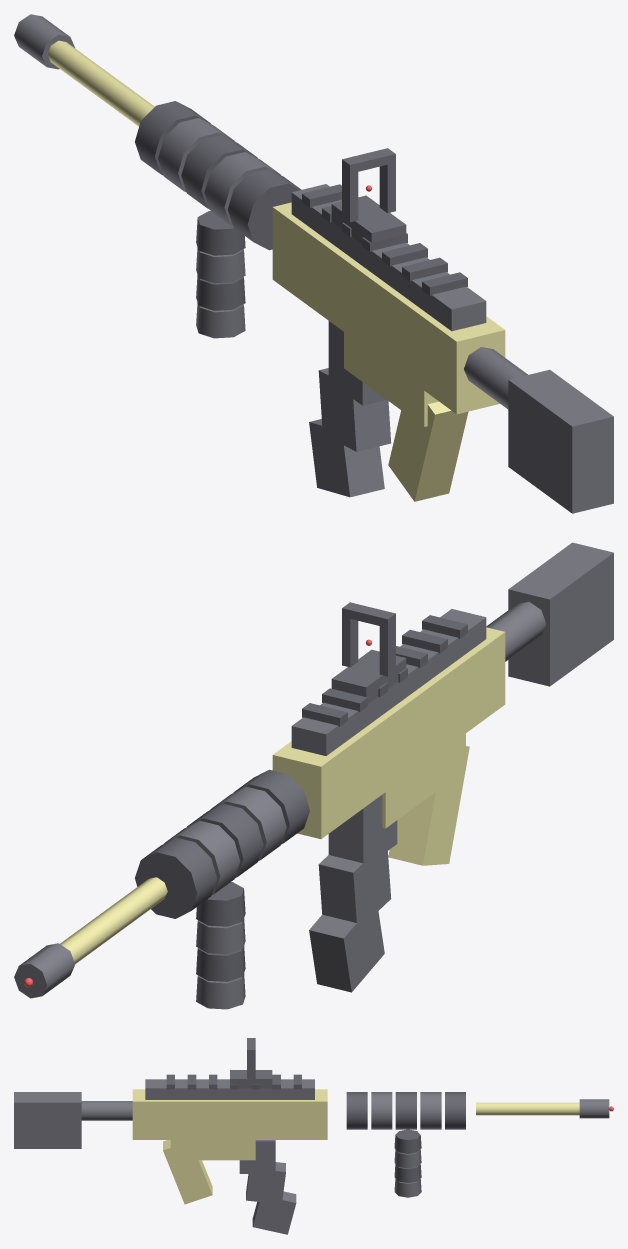
Rendered from weapon_reference.glb.
3 views of the same model, one above another, from view 1: azimuth 30°, elevation 25°; view 2: azimuth 150°, elevation 25°; view 3: azimuth 270°, elevation 25° (orthographic). The views are drawn at different scales.
Parts seen in each view (by area): view 1: receiver, stock, rail, pistol_grip, mag_seg_2, mag_seg_1, handguard_0, lower, barrel, sight_base, handguard_1, handguard_4 (+15 smaller); view 2: receiver, stock, rail, mag_seg_2, mag_seg_1, handguard_4, pistol_grip, lower, barrel, mag_seg_0, muzzle_brake, handguard_1 (+16 smaller); view 3: receiver, stock, rail, lower, pistol_grip, barrel, mag_seg_1, mag_seg_2, buffer_tube, handguard_0, handguard_1, handguard_2 (+9 smaller).
Boxes of the visible parts, x1,y1,x2,y2 form: receiver: (272, 202, 505, 414); stock: (508, 369, 613, 513); rail: (291, 184, 486, 331); pistol_grip: (388, 401, 468, 501); mag_seg_2: (309, 419, 384, 497); mag_seg_1: (318, 368, 391, 451); handguard_0: (227, 169, 301, 250); lower: (344, 332, 438, 426); barrel: (47, 40, 154, 126); sight_base: (331, 195, 406, 248); handguard_1: (204, 152, 280, 226); handguard_4: (135, 101, 210, 175); receiver: (272, 627, 505, 838); stock: (508, 542, 613, 686); rail: (291, 609, 486, 755); mag_seg_2: (309, 907, 384, 992); mag_seg_1: (318, 842, 391, 928); handguard_4: (135, 837, 216, 918); pistol_grip: (388, 745, 469, 865); lower: (382, 733, 465, 828); barrel: (60, 877, 167, 963); mag_seg_0: (328, 795, 397, 862); muzzle_brake: (14, 943, 75, 998); handguard_1: (210, 786, 286, 861); receiver: (132, 1089, 327, 1139); stock: (14, 1092, 81, 1148); rail: (145, 1079, 314, 1099); lower: (170, 1140, 255, 1160); pistol_grip: (163, 1140, 212, 1204); barrel: (476, 1102, 579, 1115); mag_seg_1: (246, 1162, 285, 1204); mag_seg_2: (252, 1191, 296, 1234); buffer_tube: (81, 1101, 132, 1120); handguard_0: (346, 1092, 367, 1129); handguard_1: (371, 1092, 392, 1129); handguard_2: (395, 1092, 416, 1129).
Bounding box in the file's own units: 0.09 × 0.4854 × 1.42.
